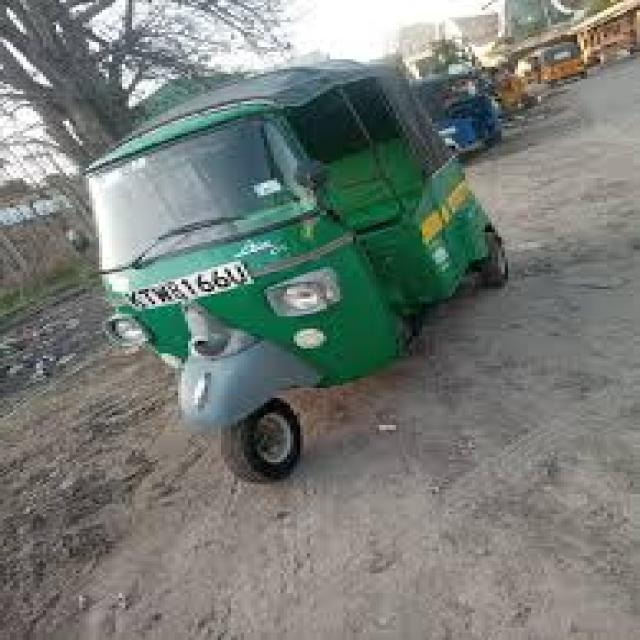tuktuk: (44, 41, 563, 498)
